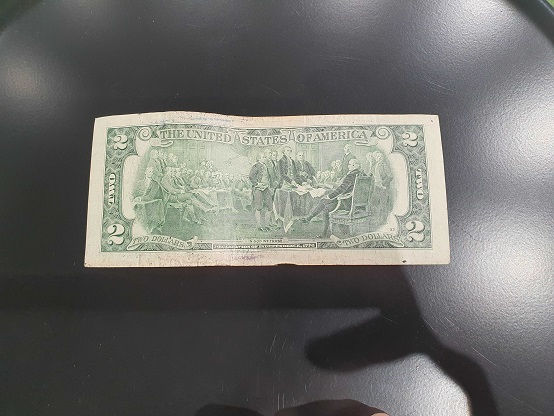2dollar: (85, 111, 450, 266)
